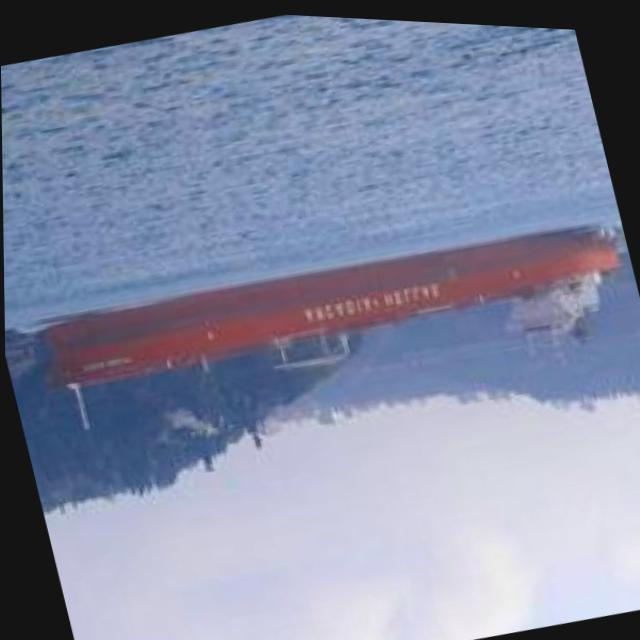ship2: (33, 219, 621, 431)
